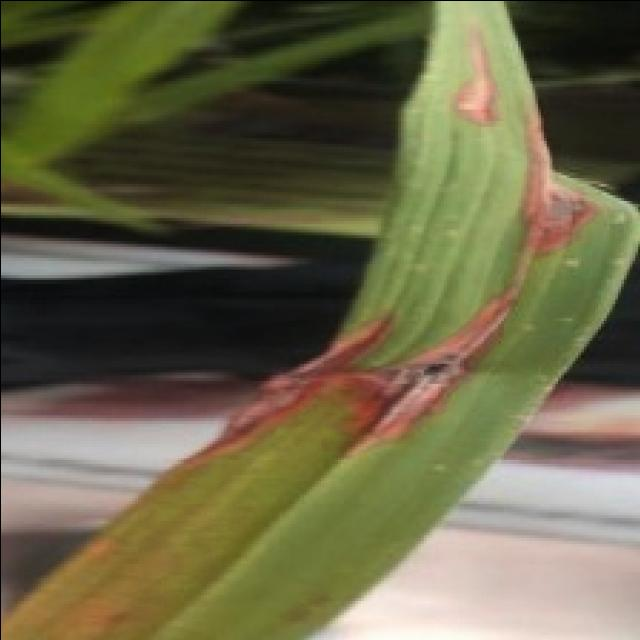Unhealthy: (173, 116, 596, 470), (455, 41, 495, 126)
